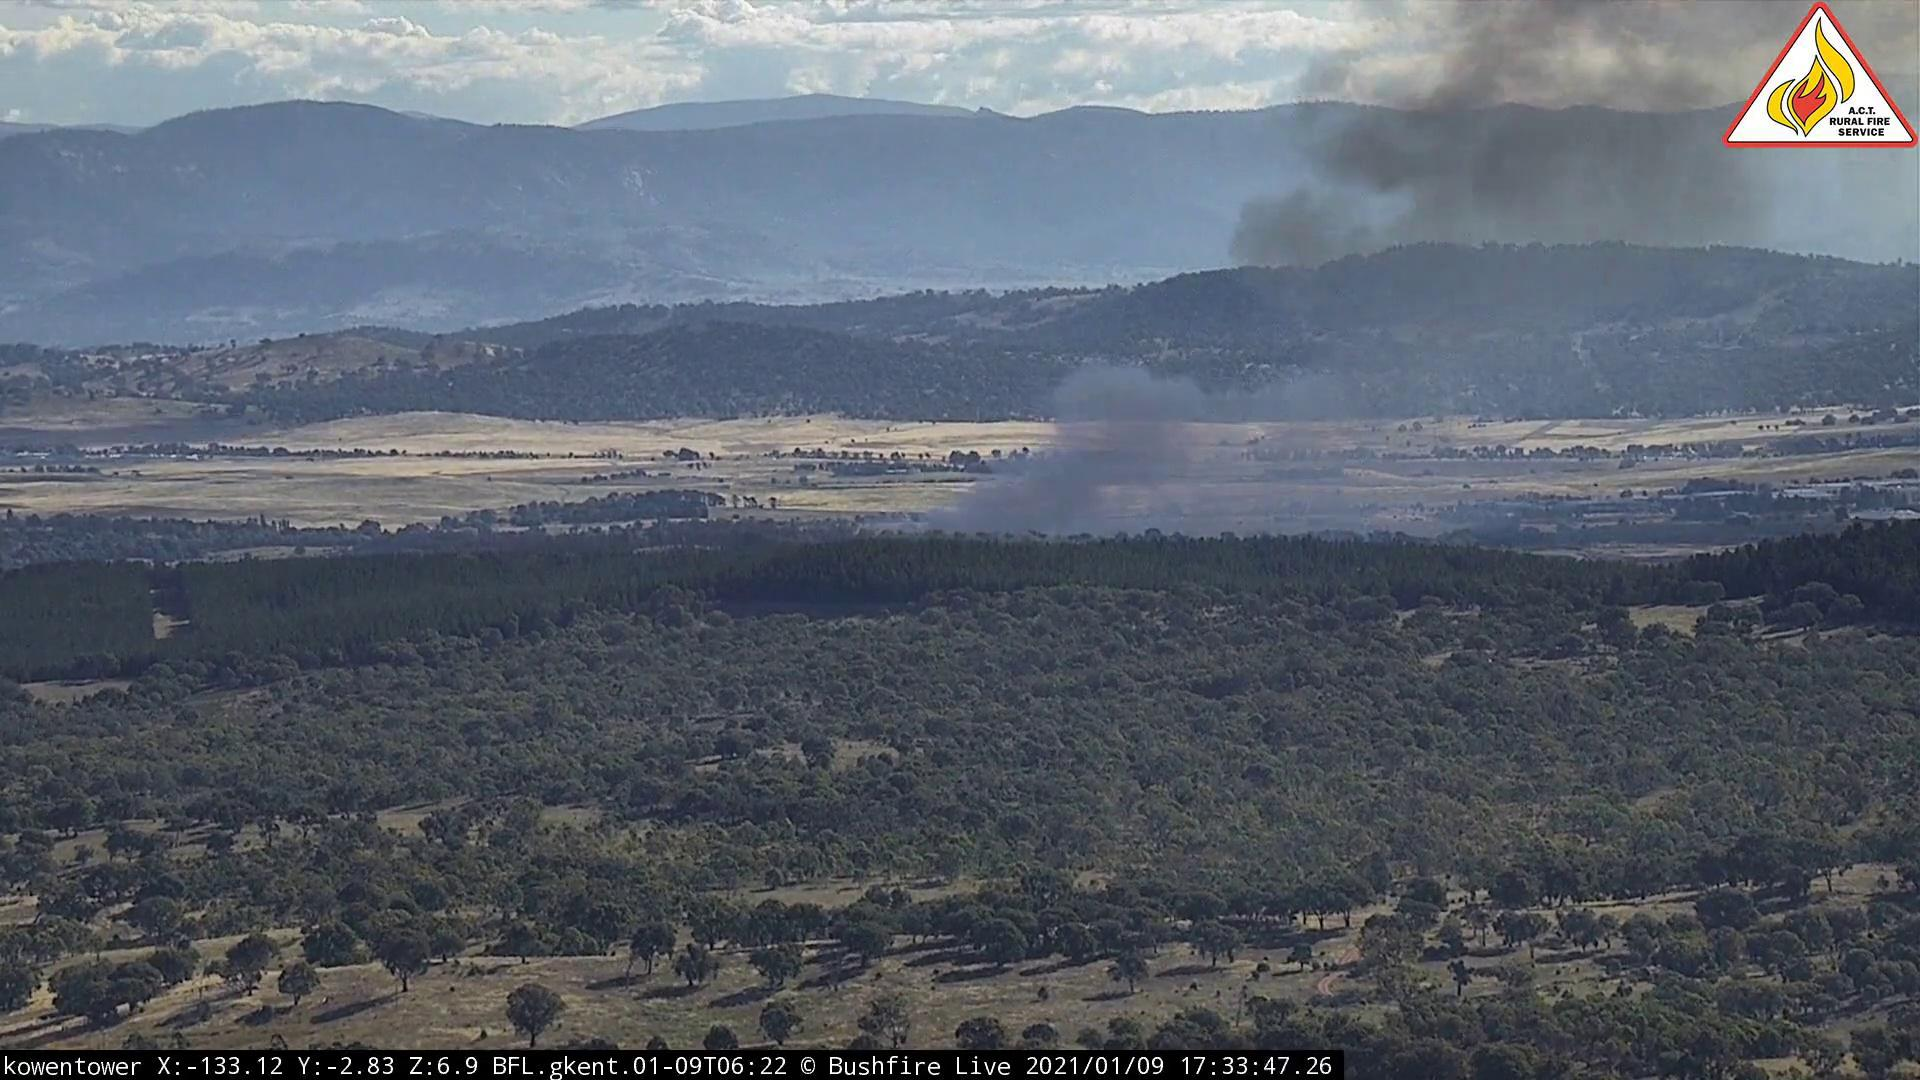instance_salient_object: (886, 3, 1720, 549)
